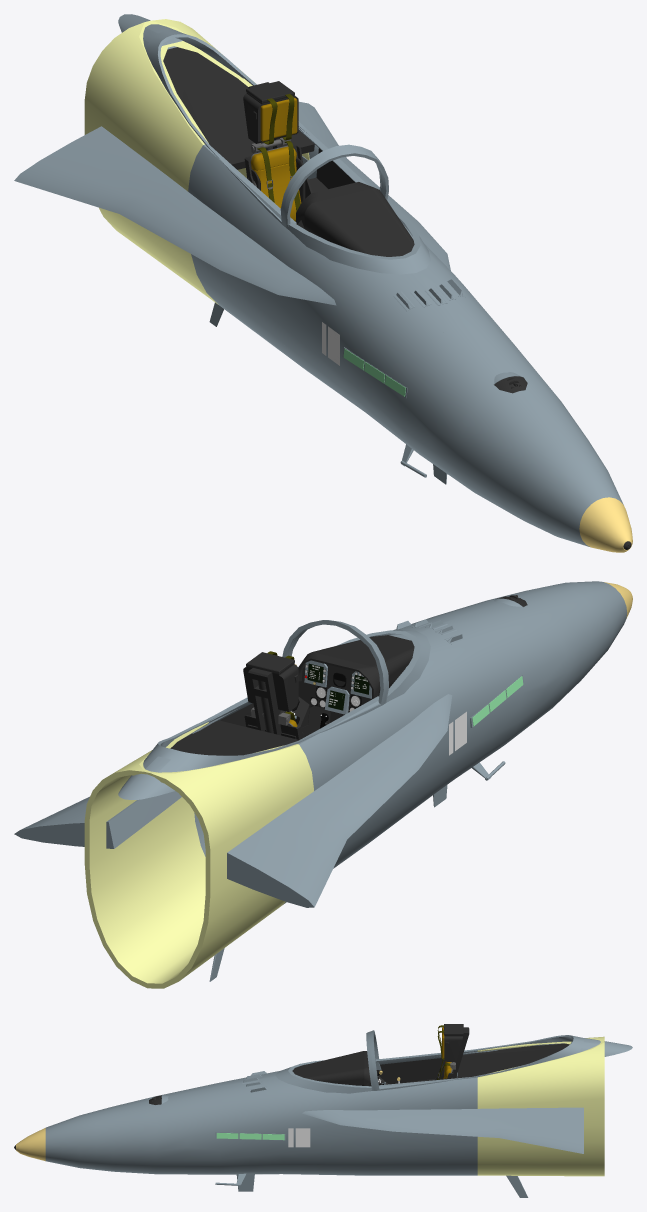
Rendered from cockpits.glb.
The picture shows the model from 3 angles, top to bottom: view 1: azimuth 30°, elevation 25°; view 2: azimuth 150°, elevation 25°; view 3: azimuth 270°, elevation 25°; orthographic projection. The views are drawn at different scales.
Parts seen in each view (by area): view 1: Cockpit; view 2: Cockpit; view 3: Cockpit.
Part boxes in pixels (left/top/right/bottom): Cockpit: left=14, top=14, right=632, bottom=552; Cockpit: left=14, top=581, right=632, bottom=988; Cockpit: left=14, top=1024, right=632, bottom=1197.
Size of the model in its own units: 2.51 by 2.3 by 7.31.
8 materials, 4 textured.
